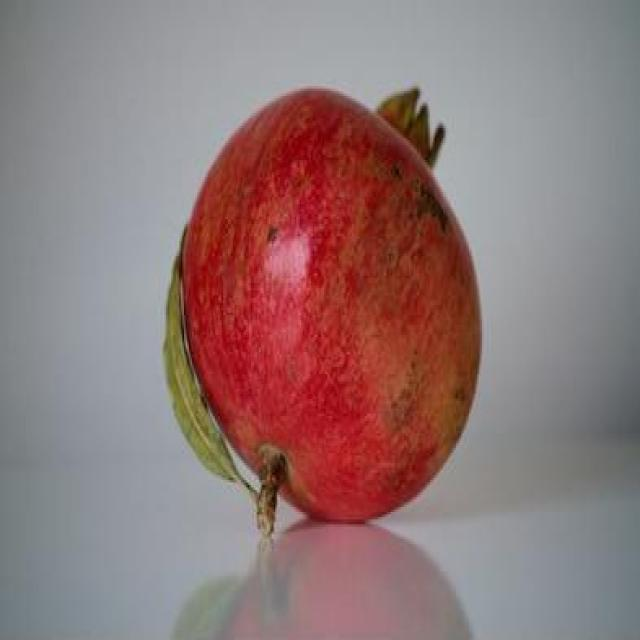Pomegranate: (182, 84, 484, 528)
